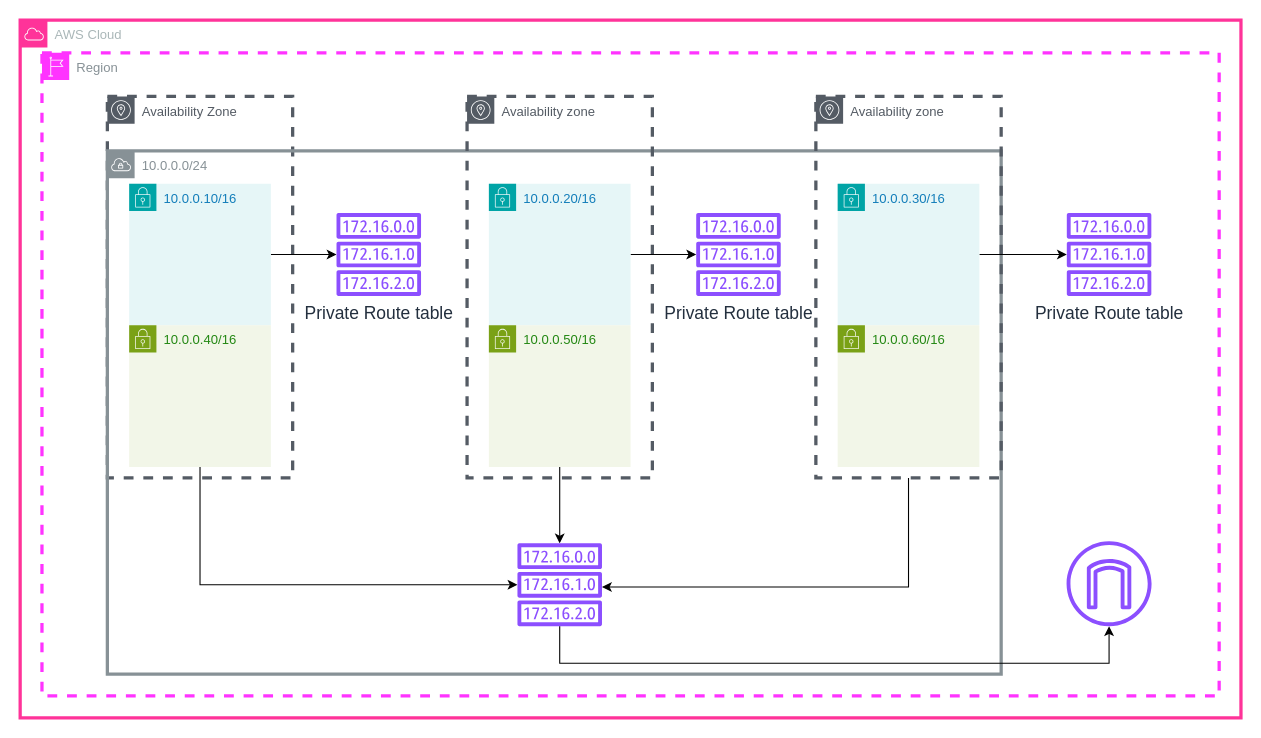
The diagram is 1261 pixels wide and 738 high, and some of its shapes have lost their labels. The shapes that lost their labels are listed below. From the top down, each one's centre as x and y in pixels, then its label:
At pixel 559 584: "Public Route table".
At pixel 1108 583: "Internal Gateway".
